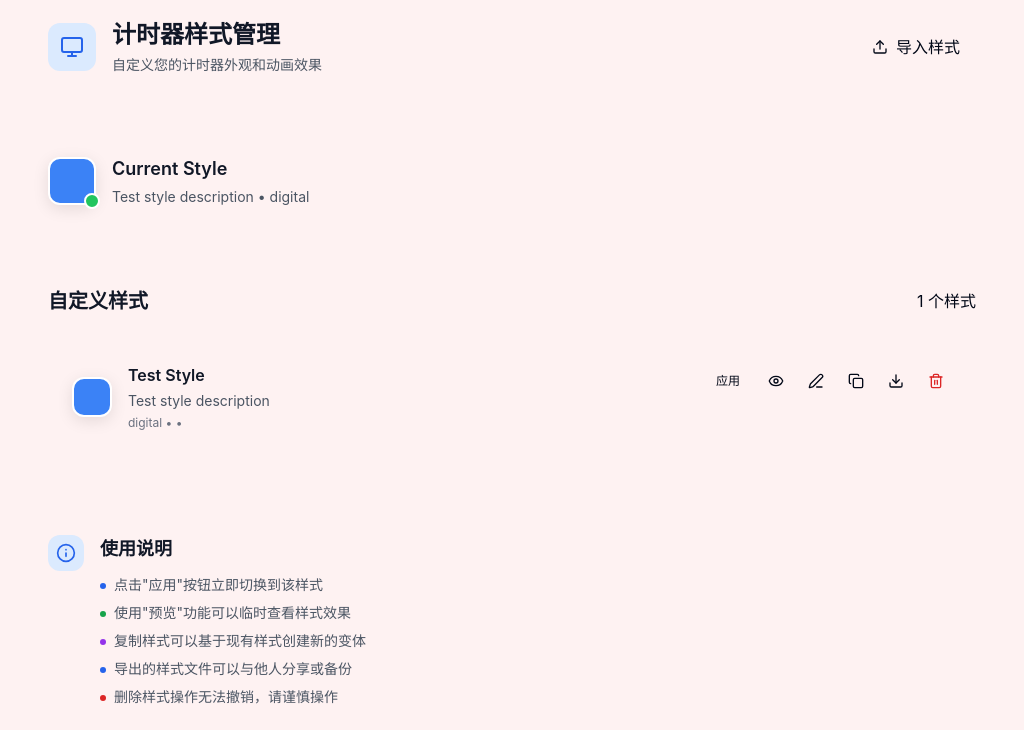
Test: TimerStyleManager Notification System Tests › Notification Display › shows success notification when style is saved
This screenshot has width=1024, height=730.
Note: Start editing and save
Step 1. Click the button named "编辑样式" → (816, 381), box x1=800 y1=363 x2=832 y2=399
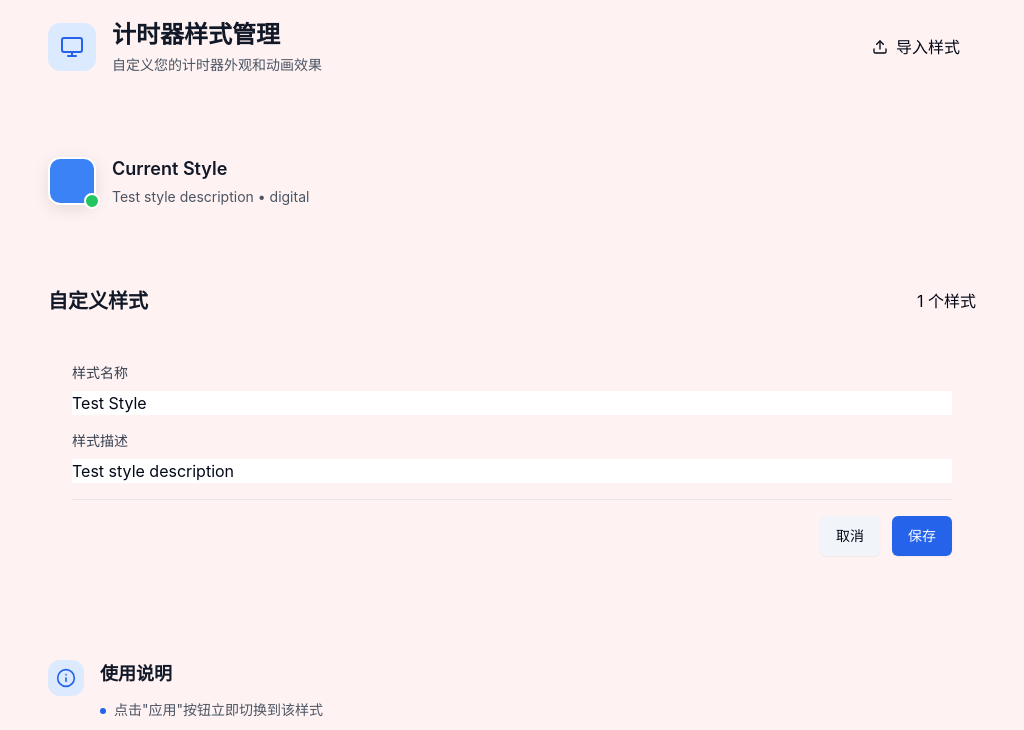
Step 2. Replace the text in the field showing "Test Style" below "样式名称" with "Updated Style" → (512, 403), box x1=72 y1=391 x2=952 y2=415
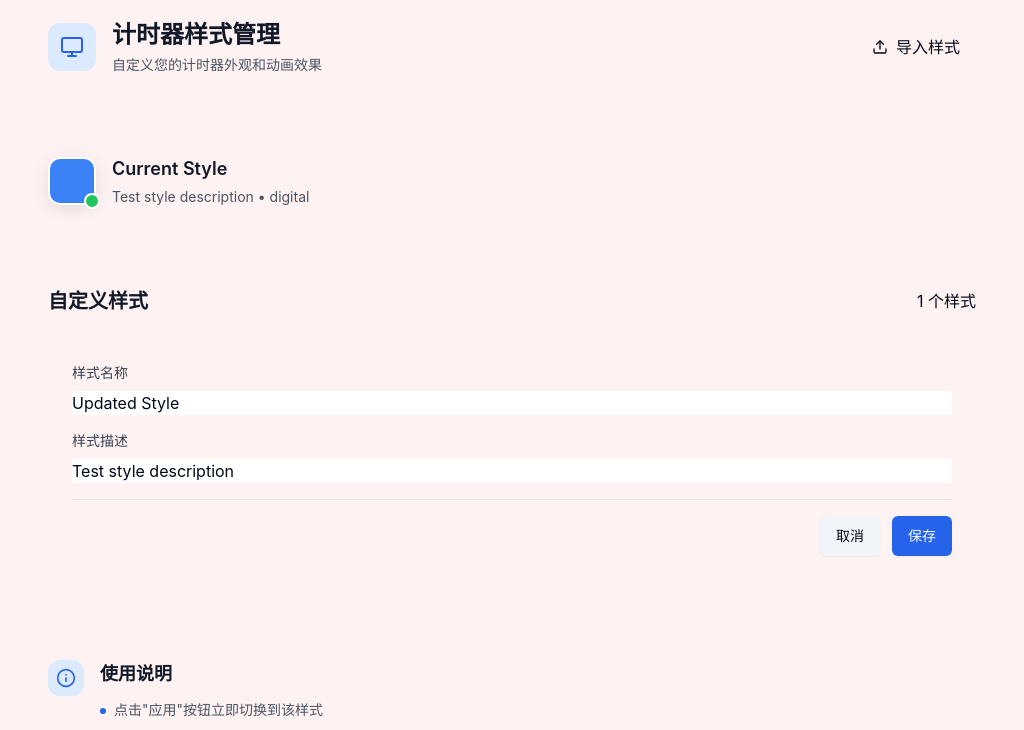
Step 3. Click the button "保存" → (922, 536), box x1=892 y1=516 x2=952 y2=556
(page scrolled)
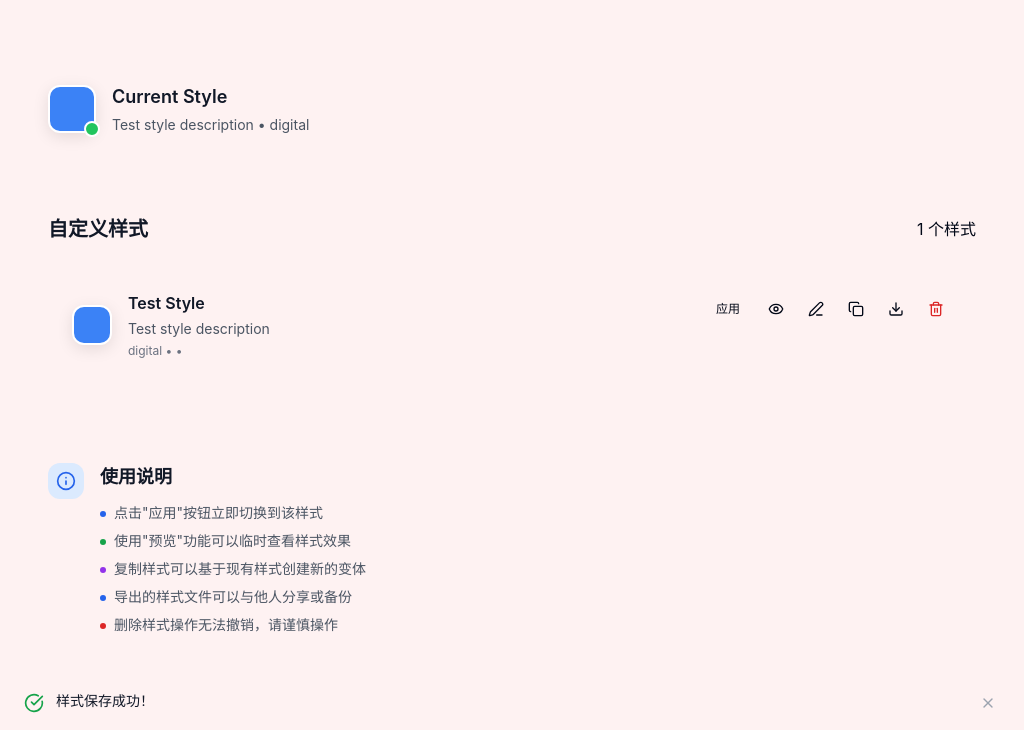
Expected: the text "样式保存成功！" is shown, x1=56 y1=692 x2=154 y2=709
